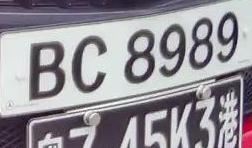8: (120, 24, 161, 88), (187, 12, 216, 71)
9: (155, 17, 190, 82), (214, 7, 243, 66)
B: (22, 30, 71, 108)
C: (69, 28, 114, 100)
